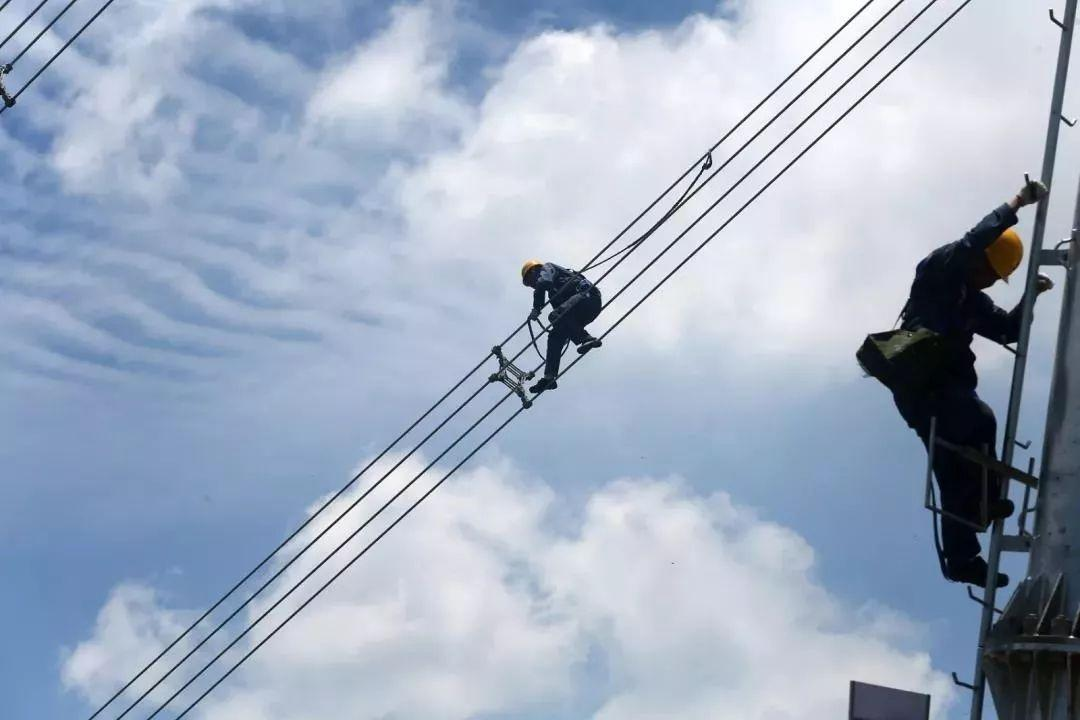Helmet: (980, 226, 1022, 288), (516, 258, 544, 286)
